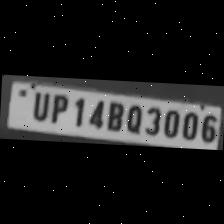0: (177, 108, 200, 140), (159, 104, 180, 138)
1: (68, 93, 86, 127)
3: (142, 102, 162, 136)
4: (83, 95, 105, 129)
6: (197, 109, 218, 143)
B: (102, 98, 124, 132)
P: (46, 90, 70, 124)
Q: (123, 100, 143, 134)
U: (26, 88, 50, 122)
